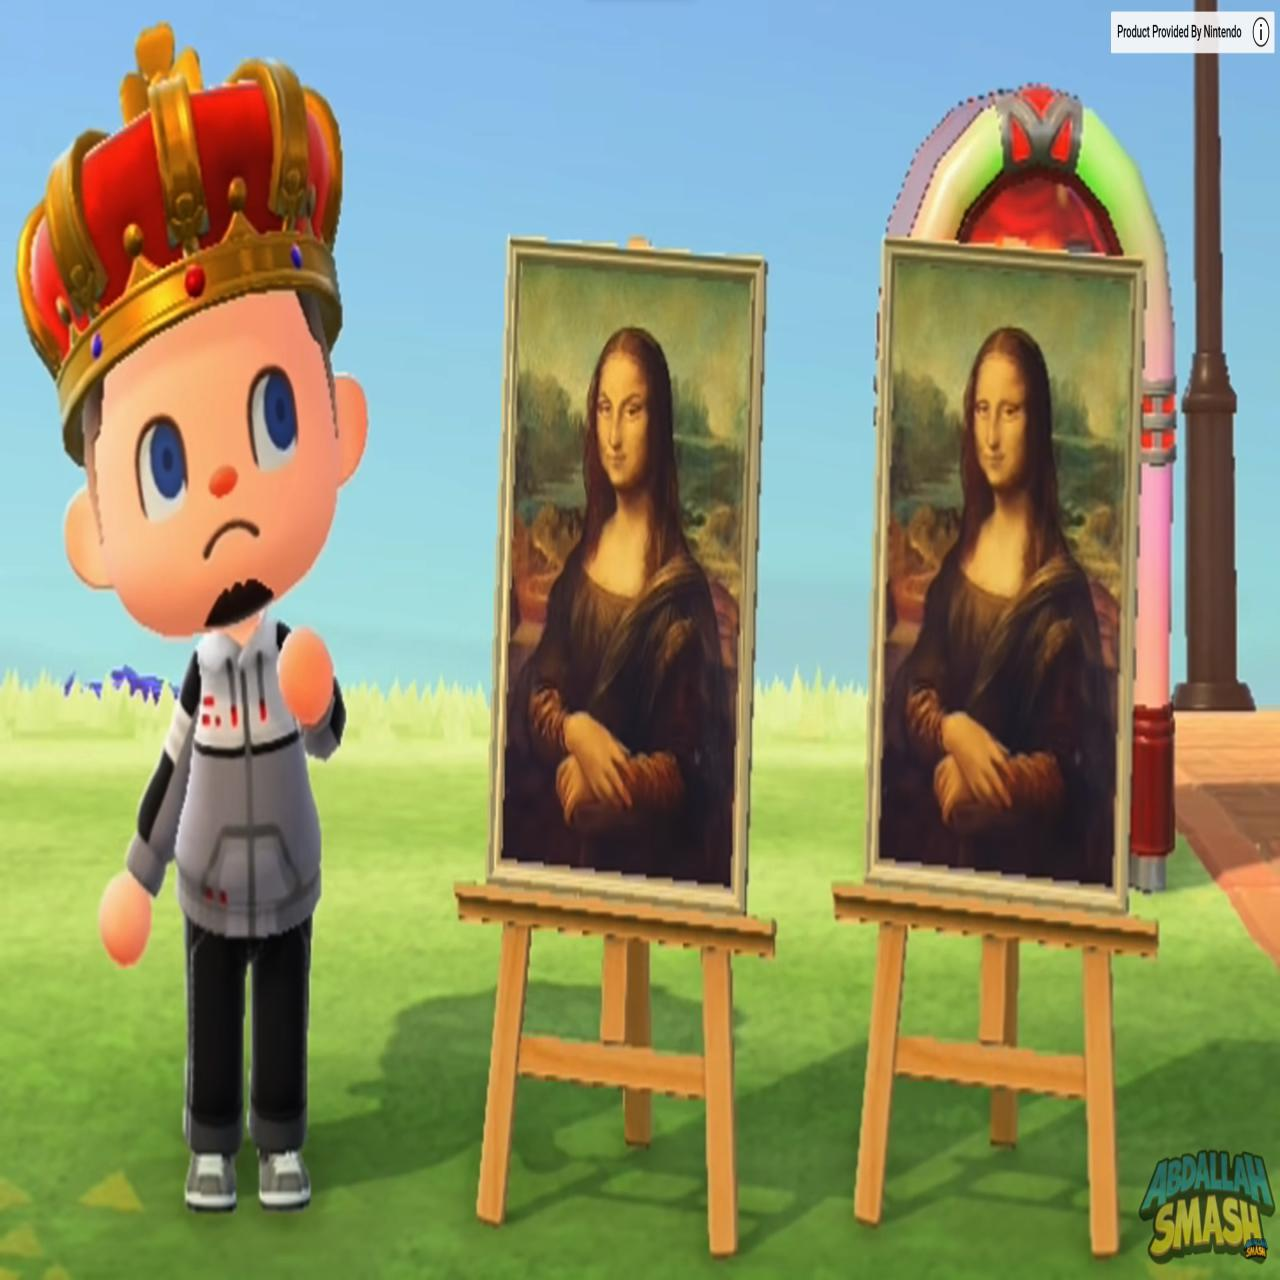MonaLisa: (879, 256, 1128, 903)
MonaLisaFake: (506, 265, 755, 876)
